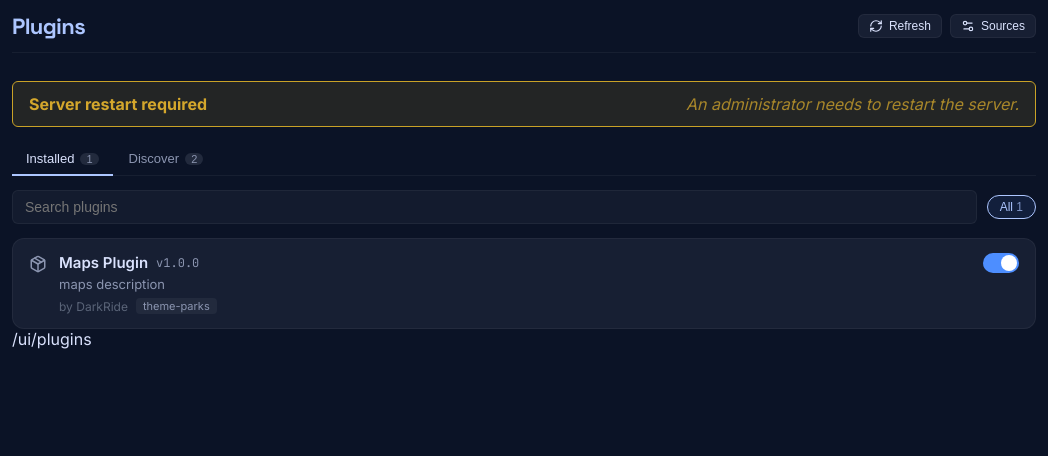
Test case: PluginsWorkspace: landing and tabs › switches tab and records it in the URL
Click the tab "Discover 2".
click(166, 160)  # box x1=114 y1=143 x2=217 y2=176
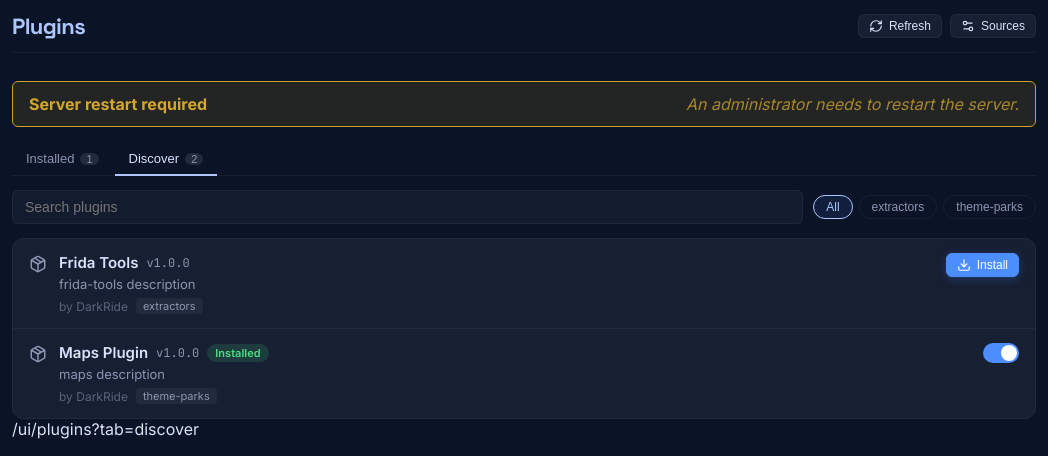
Expected: the text with test id "loc" shows "tab=discover", x1=12 y1=419 x2=199 y2=439
